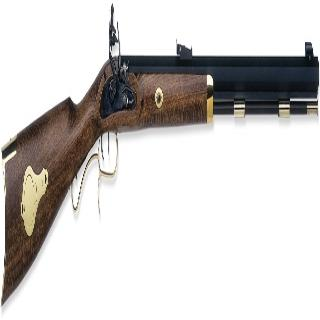gun: (1, 6, 318, 319)
